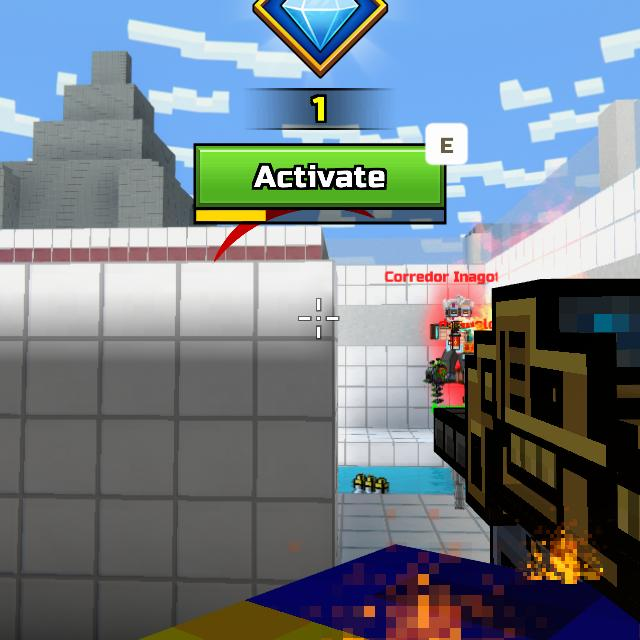Enemy: (428, 299, 484, 405)
